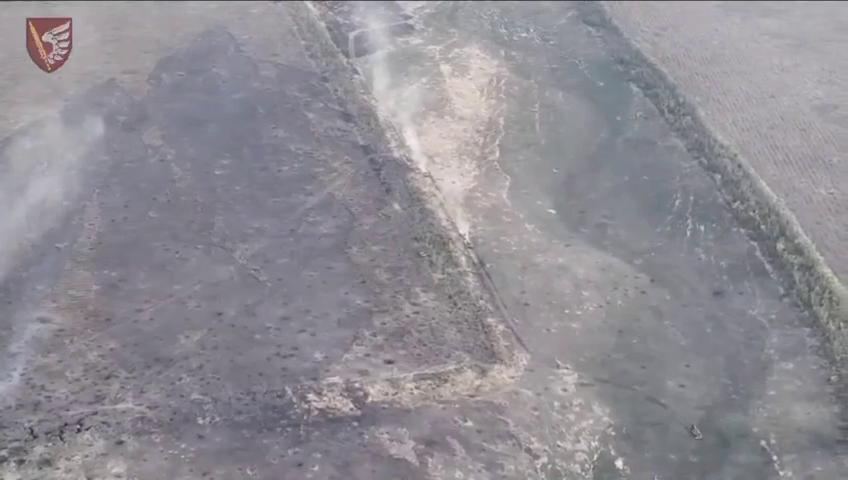tank: (688, 422, 704, 442), (463, 237, 476, 253), (420, 167, 431, 178)
